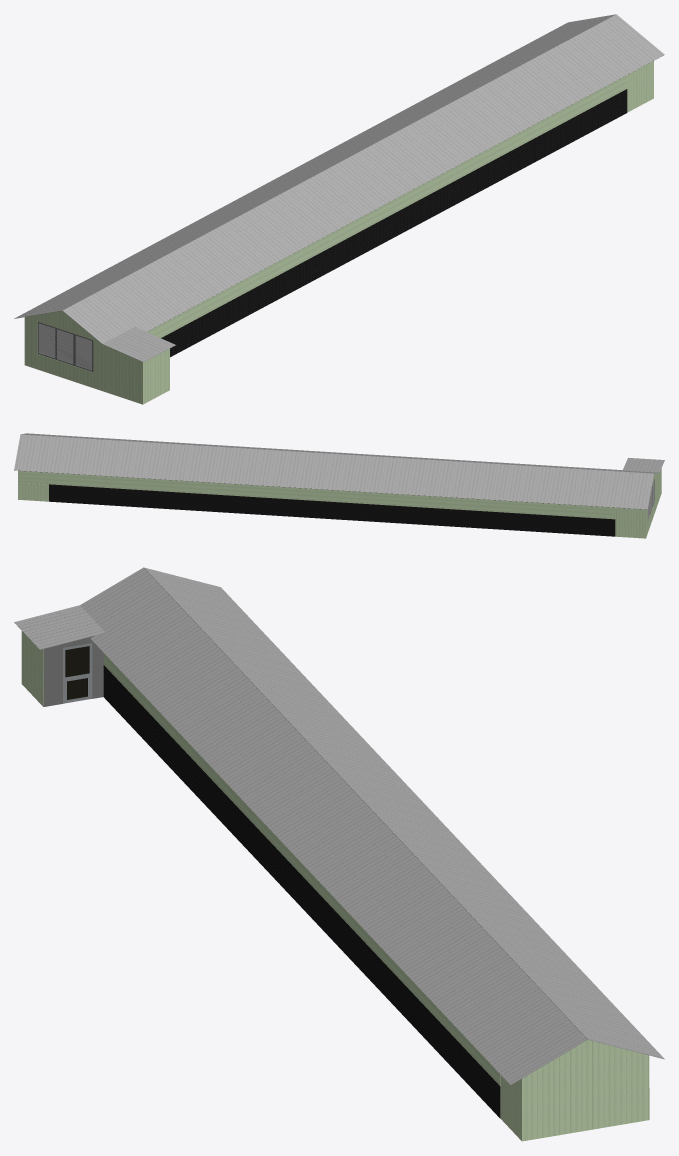
The picture shows the model from 3 angles, top to bottom: view 1: azimuth 30°, elevation 25°; view 2: azimuth 150°, elevation 25°; view 3: azimuth 270°, elevation 25°; orthographic projection. The views are drawn at different scales.
Parts seen in each view (by area): view 1: 雞一new; view 2: 雞一new; view 3: 雞一new, object 13.
Boxes of the visible parts, x1,y1,x2,y2 form: 雞一new: (14,14,664,404); 雞一new: (14,433,664,538); 雞一new: (14,567,664,1141); object 13: (64,644,91,703).
Bounding box in the file's own units: 39.52 × 3.46 × 21.83.
Materials: 10 (9 with a texture image).
